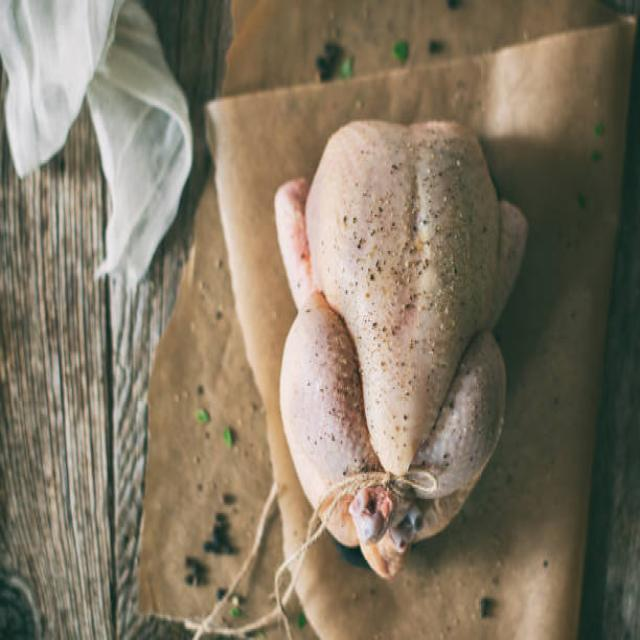Chicken: (262, 94, 536, 594)
